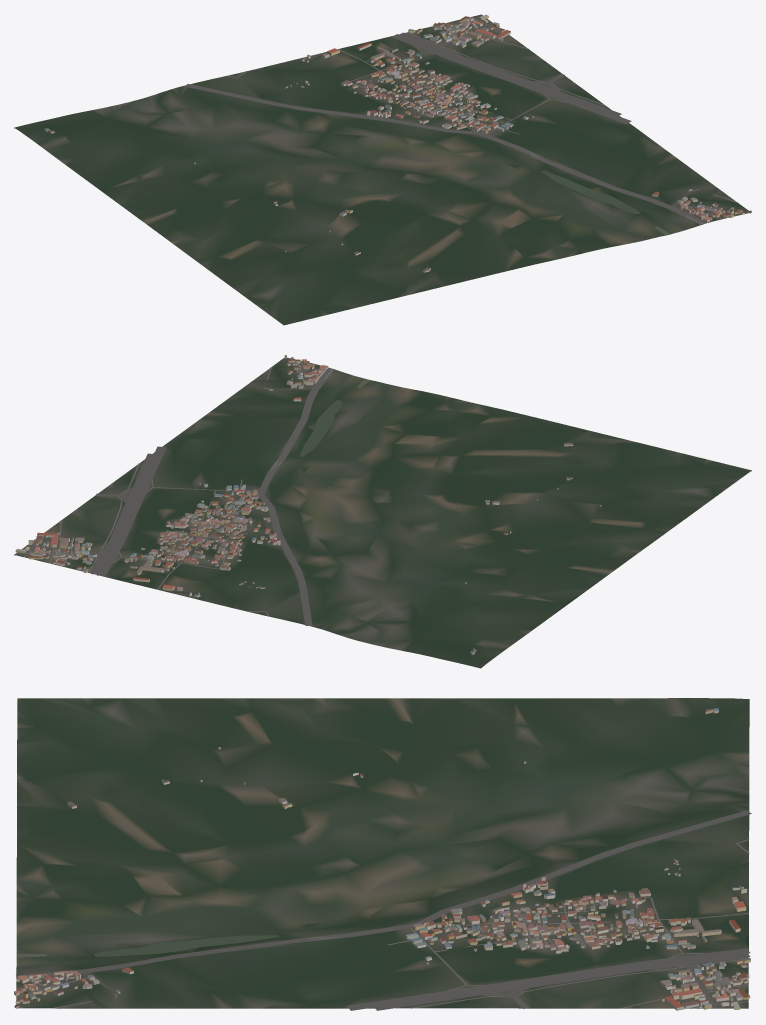
3 renders of one model, top to bottom at view 1: azimuth 30°, elevation 25°; view 2: azimuth 150°, elevation 25°; view 3: azimuth 270°, elevation 25°, orthographic. The views are drawn at different scales.
Parts seen in each view (by area): view 1: ground, buildings, roads, water; view 2: ground, buildings, roads, water; view 3: ground, buildings, roads, water.
Part boxes in pixels (x1,y1,x2,y2): ground: (14, 14, 748, 325); buildings: (44, 14, 751, 272); roads: (185, 16, 748, 224); water: (541, 171, 670, 235); ground: (14, 357, 751, 668); buildings: (15, 355, 601, 654); roads: (24, 358, 334, 625); water: (300, 378, 370, 457); ground: (16, 698, 749, 1008); buildings: (14, 708, 750, 1010); roads: (16, 810, 751, 1010); water: (17, 935, 278, 957).
Size of the model in its own units: 1410 by 23.63 by 1413.
